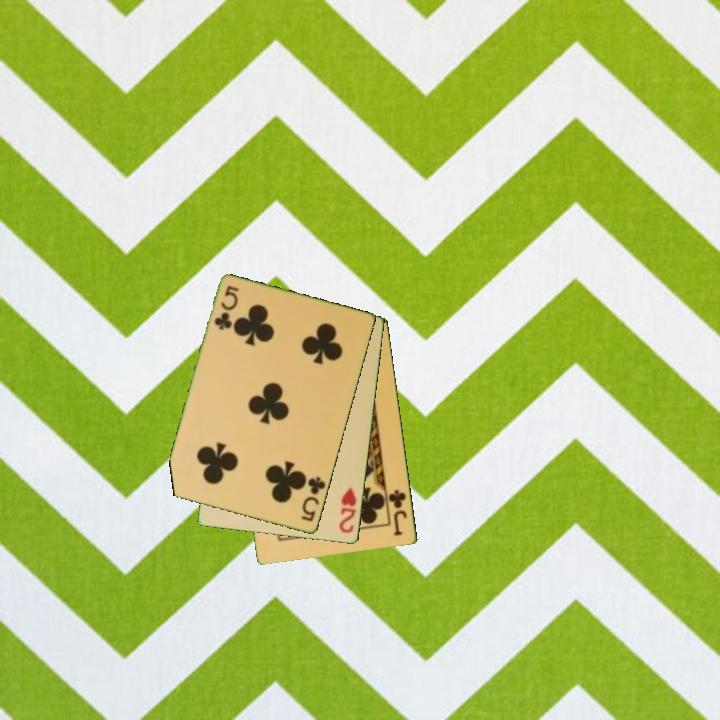2h: (336, 484, 360, 536)
5c: (298, 473, 328, 525), (211, 283, 242, 333)
Jc: (385, 486, 410, 539)
